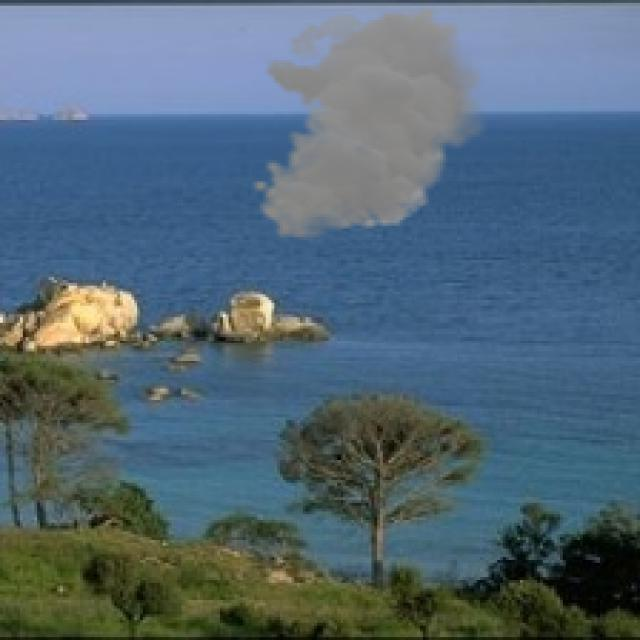Smoke: (252, 6, 494, 240)
